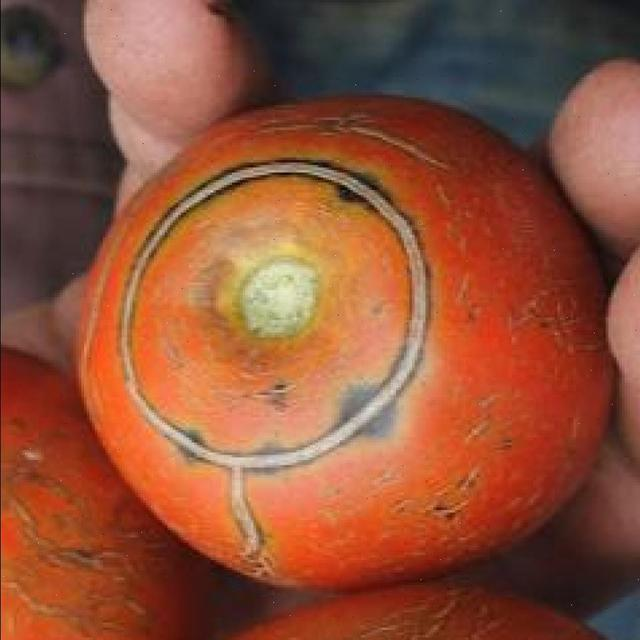Cracking Fruit: (43, 35, 288, 409)
